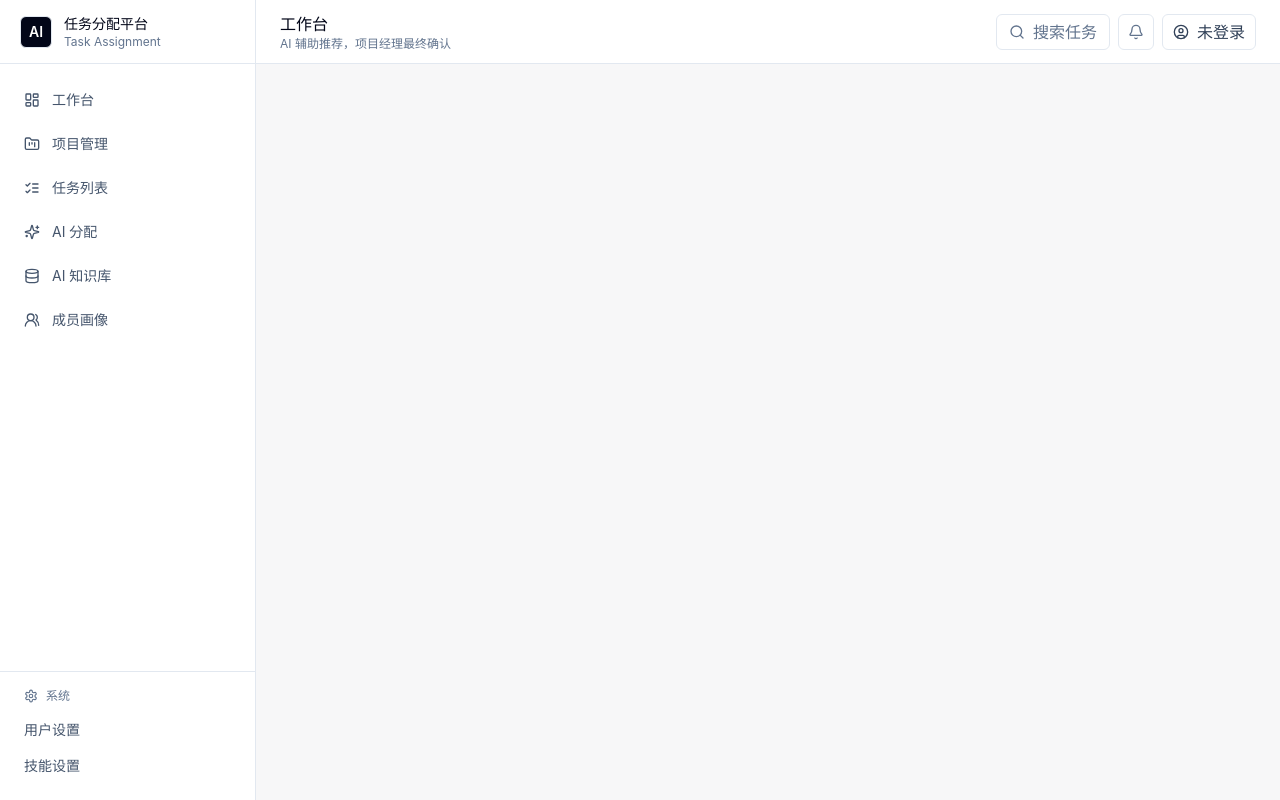
Test: MainLayout › shows logout button when user menu is clicked
This screenshot has width=1280, height=800.
Click the button with test id "user-menu-button". click: (1209, 32)
box: [1162,14,1256,50]
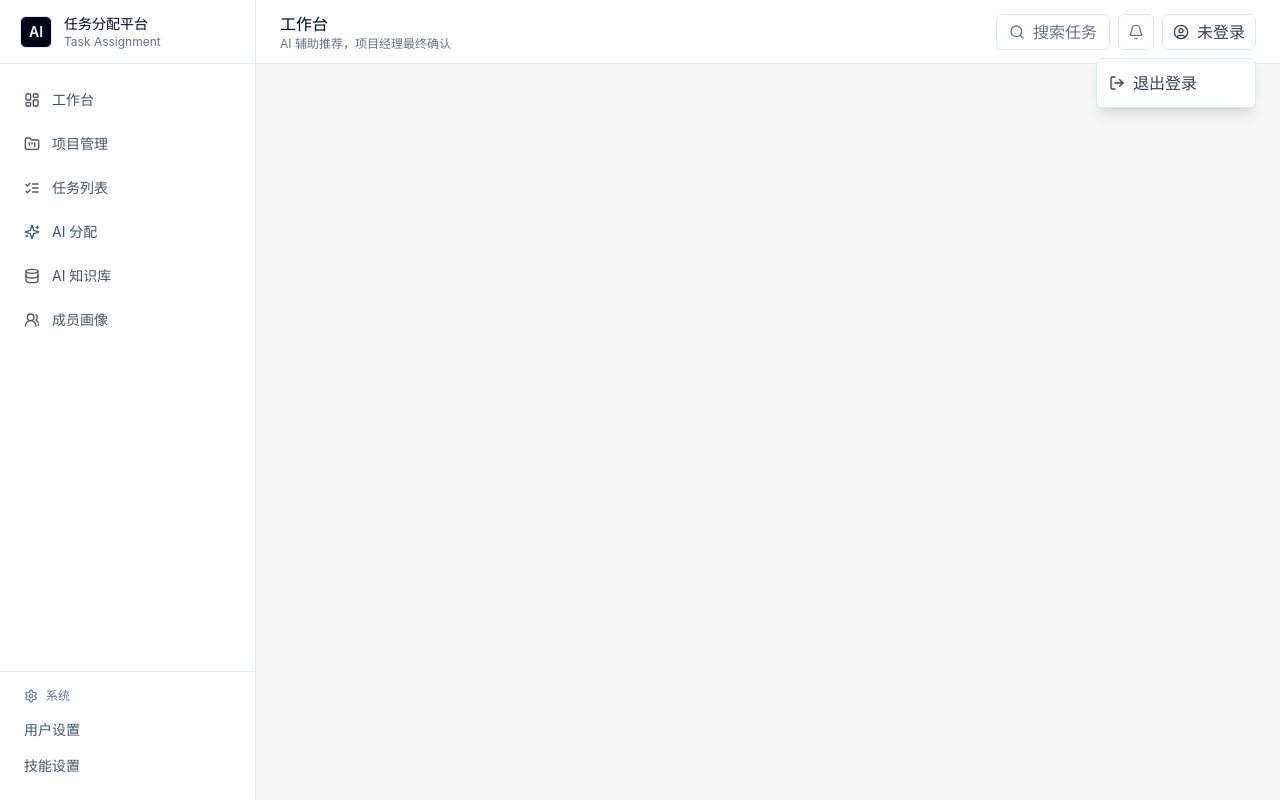
Check: the button with test id "logout-button" reads "退出登录", box [1097,62,1255,102]
